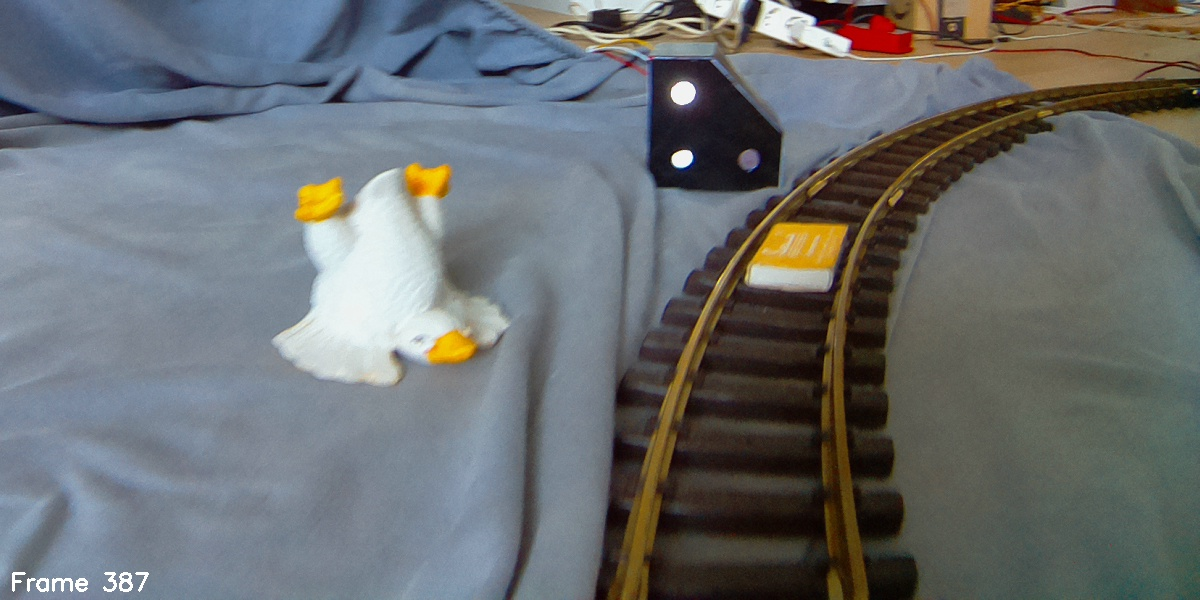Ente: (269, 161, 513, 396)
Fahrt: (651, 41, 783, 195)
